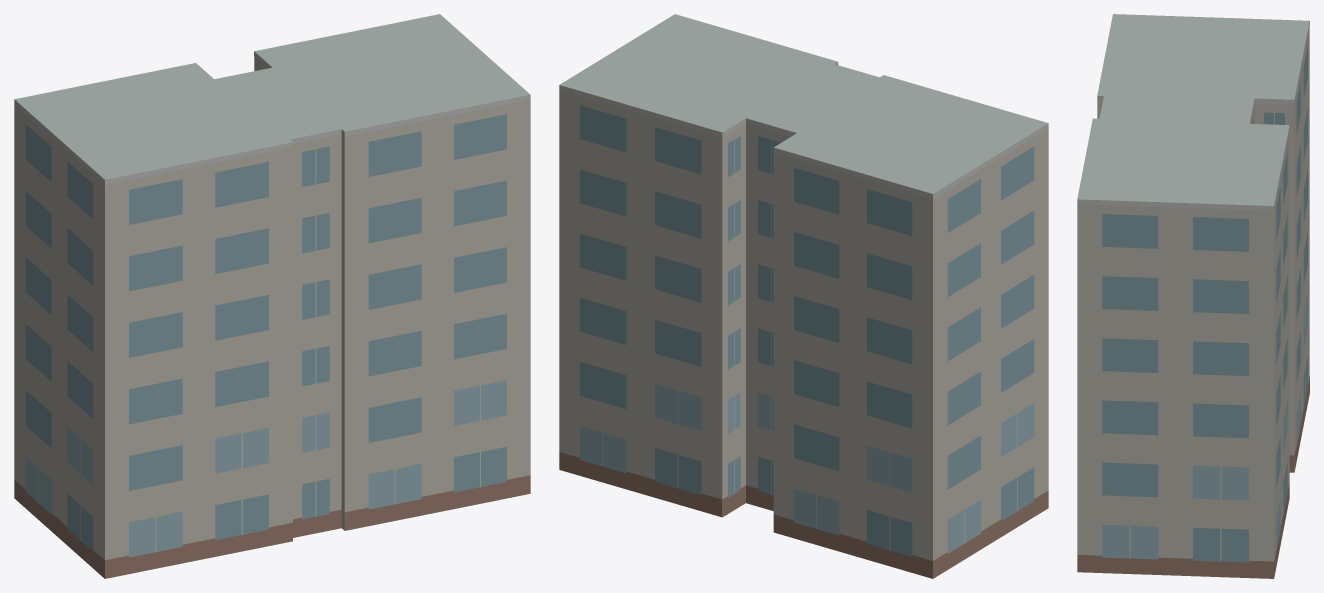
Rendered from survey-upis-32977513.glb.
3 renders of one model, left to right at view 1: azimuth 30°, elevation 25°; view 2: azimuth 150°, elevation 25°; view 3: azimuth 270°, elevation 25°, orthographic. The views are drawn at different scales.
Visible parts, largest first — view 1: survey-upis-32977513.tmp; view 2: survey-upis-32977513.tmp; view 3: survey-upis-32977513.tmp.
Part boxes in pixels (box(x1,y1,x2,y2)): survey-upis-32977513.tmp: box(14, 14, 530, 578); survey-upis-32977513.tmp: box(559, 14, 1048, 578); survey-upis-32977513.tmp: box(1077, 14, 1309, 578).
Size of the model in its own units: 20.56 by 18.6 by 10.52.
